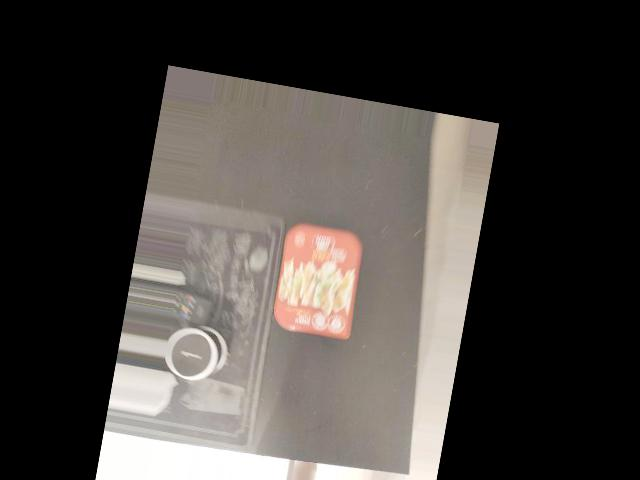cheese: (265, 219, 370, 343)
